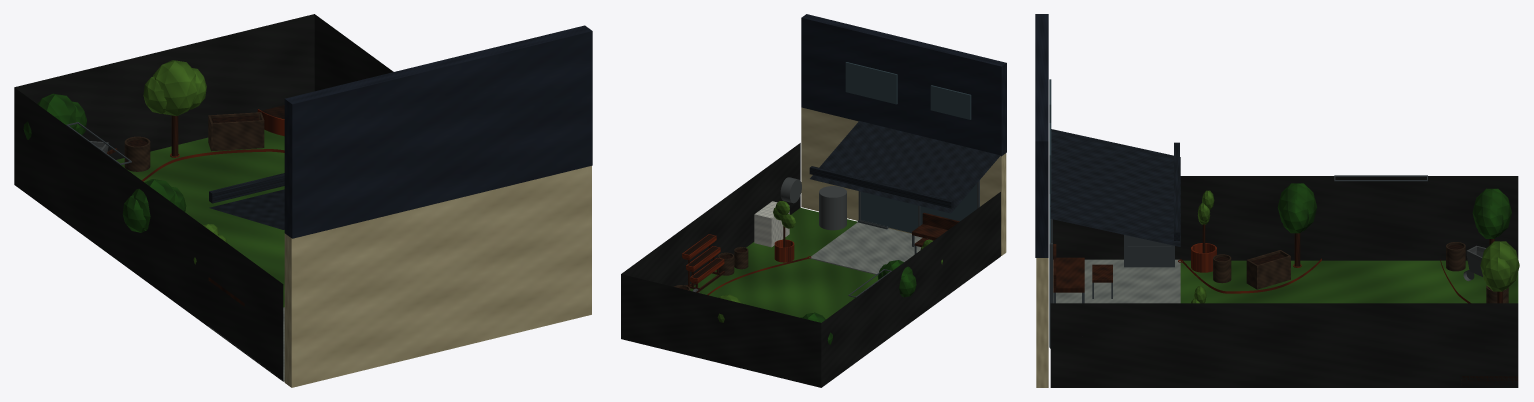
The model's file is garden_v0_18_primary_interactive_model_r4.glb.
The picture shows the model from 3 angles, left to right: view 1: azimuth 30°, elevation 25°; view 2: azimuth 150°, elevation 25°; view 3: azimuth 270°, elevation 25°; orthographic projection. The views are drawn at different scales.
Visible parts, largest first — view 1: V018_CONTEXT__HOUSE_LOWER_FACADE_APPROX, V018_CONTEXT__HOUSE_UPPER_FACADE_APPROX, EXISTING__FENCE_LEFT, EXISTING__FENCE_REAR, EXISTING__GROUND_DATUM, EXISTING__FENCE_RIGHT, V018_PROPOSED__MANDARIN_PROXY__CANOPY_A, EXISTING__PATIO_ROOF_APPROX, V010_R10_2_PART__T1__TROUGH_1__TROUGH_WALL_FRONT, V018_CONTEXT__PATIO_FASCIA_APPROX, V018_EXISTING__LEMON_PROXY__CANOPY_A, V010_R10_2_PART__P2__PLANTER_2__CONTAINER (+3 smaller); view 2: V018_CONTEXT__HOUSE_UPPER_FACADE_APPROX, EXISTING__FENCE_REAR, EXISTING__FENCE_LEFT, EXISTING__PATIO_ROOF_APPROX, EXISTING__GROUND_DATUM, EXISTING__FENCE_RIGHT, V018_CONTEXT__HOUSE_LOWER_FACADE_APPROX, EXISTING__PATIO, V018_CONTEXT__SLIDING_GLASS_APPROX, V018_CONTEXT__UPPER_WINDOW_RIGHT, V018_CONTEXT__PATIO_FASCIA_APPROX, V010_R5_APPROVED__WF__WORM (+7 smaller); view 3: EXISTING__FENCE_RIGHT, EXISTING__FENCE_LEFT, EXISTING__PATIO_ROOF_APPROX, EXISTING__GROUND_DATUM, EXISTING__PATIO, V018_CONTEXT__HOUSE_UPPER_FACADE_APPROX, V018_CONTEXT__HOUSE_LOWER_FACADE_APPROX, V010_R10_2_PART__WK__WORK__CABINET, V010_R10_2_PART__LS__LOUNGE__SEAT, V018_PROPOSED__MANDARIN_PROXY__CANOPY_A, V018_EXISTING__LEMON_PROXY__CANOPY_A, V018_EXISTING__LIME_PROXY__CANOPY_A (+9 smaller).
Boxes of the visible parts, bbox=[...] form: V018_CONTEXT__HOUSE_LOWER_FACADE_APPROX: bbox=[284, 166, 591, 387]; V018_CONTEXT__HOUSE_UPPER_FACADE_APPROX: bbox=[284, 25, 592, 238]; EXISTING__FENCE_LEFT: bbox=[14, 87, 283, 381]; EXISTING__FENCE_REAR: bbox=[14, 14, 314, 159]; EXISTING__GROUND_DATUM: bbox=[116, 129, 284, 307]; EXISTING__FENCE_RIGHT: bbox=[314, 14, 393, 91]; V018_PROPOSED__MANDARIN_PROXY__CANOPY_A: bbox=[152, 60, 196, 115]; EXISTING__PATIO_ROOF_APPROX: bbox=[209, 189, 284, 229]; V010_R10_2_PART__T1__TROUGH_1__TROUGH_WALL_FRONT: bbox=[213, 120, 262, 150]; V018_CONTEXT__PATIO_FASCIA_APPROX: bbox=[209, 173, 284, 203]; V018_EXISTING__LEMON_PROXY__CANOPY_A: bbox=[37, 93, 77, 129]; V010_R10_2_PART__P2__PLANTER_2__CONTAINER: bbox=[124, 136, 150, 171]; V018_CONTEXT__HOUSE_UPPER_FACADE_APPROX: bbox=[801, 14, 1006, 156]; EXISTING__FENCE_REAR: bbox=[621, 274, 821, 387]; EXISTING__FENCE_LEFT: bbox=[821, 192, 1000, 387]; EXISTING__PATIO_ROOF_APPROX: bbox=[810, 121, 1000, 213]; EXISTING__GROUND_DATUM: bbox=[690, 207, 878, 319]; EXISTING__FENCE_RIGHT: bbox=[621, 143, 800, 286]; V018_CONTEXT__HOUSE_LOWER_FACADE_APPROX: bbox=[801, 107, 1006, 255]; EXISTING__PATIO: bbox=[810, 222, 1000, 274]; V018_CONTEXT__SLIDING_GLASS_APPROX: bbox=[861, 184, 976, 233]; V018_CONTEXT__UPPER_WINDOW_RIGHT: bbox=[845, 62, 897, 104]; V018_CONTEXT__PATIO_FASCIA_APPROX: bbox=[809, 166, 953, 208]; V010_R5_APPROVED__WF__WORM: bbox=[819, 186, 846, 230]; EXISTING__FENCE_RIGHT: bbox=[1050, 303, 1518, 387]; EXISTING__FENCE_LEFT: bbox=[1053, 176, 1518, 260]; EXISTING__PATIO_ROOF_APPROX: bbox=[1050, 129, 1180, 246]; EXISTING__GROUND_DATUM: bbox=[1180, 260, 1518, 303]; EXISTING__PATIO: bbox=[1053, 259, 1180, 303]; V018_CONTEXT__HOUSE_UPPER_FACADE_APPROX: bbox=[1035, 14, 1048, 257]; V018_CONTEXT__HOUSE_LOWER_FACADE_APPROX: bbox=[1036, 258, 1048, 387]; V010_R10_2_PART__WK__WORK__CABINET: bbox=[1124, 235, 1174, 267]; V010_R10_2_PART__LS__LOUNGE__SEAT: bbox=[1053, 257, 1084, 292]; V018_PROPOSED__MANDARIN_PROXY__CANOPY_A: bbox=[1480, 241, 1519, 289]; V018_EXISTING__LEMON_PROXY__CANOPY_A: bbox=[1472, 188, 1511, 236]; V018_EXISTING__LIME_PROXY__CANOPY_A: bbox=[1277, 183, 1317, 231].
Bounding box in the file's own units: 6.08 × 5.24 × 9.33.
16 materials, 13 textured.
